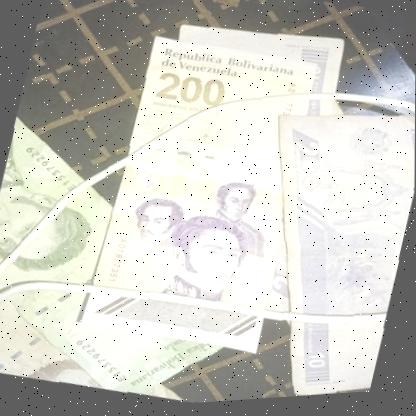fifty-front-vef: (0, 98, 284, 416)
five-front-vef: (0, 241, 212, 416)
ten-back-vef: (119, 15, 360, 337), (218, 89, 415, 404)
two_hundred-front-vef: (81, 28, 326, 368)
